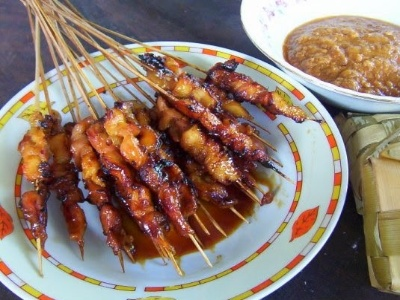sate: (27, 12, 307, 270)
